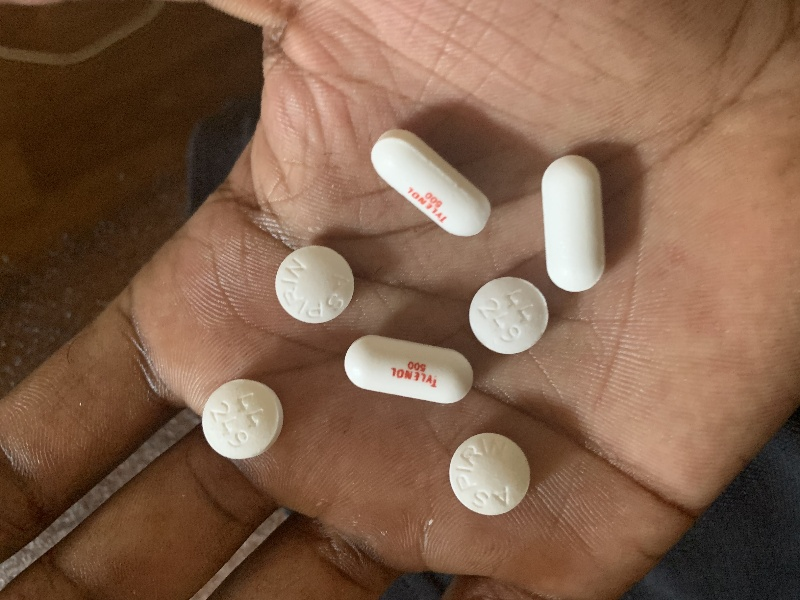Aspirin: (444, 431, 537, 521), (196, 375, 288, 461), (267, 243, 360, 328), (465, 274, 551, 357)
Tylenol: (363, 124, 500, 242), (536, 154, 618, 295), (341, 331, 473, 408)
